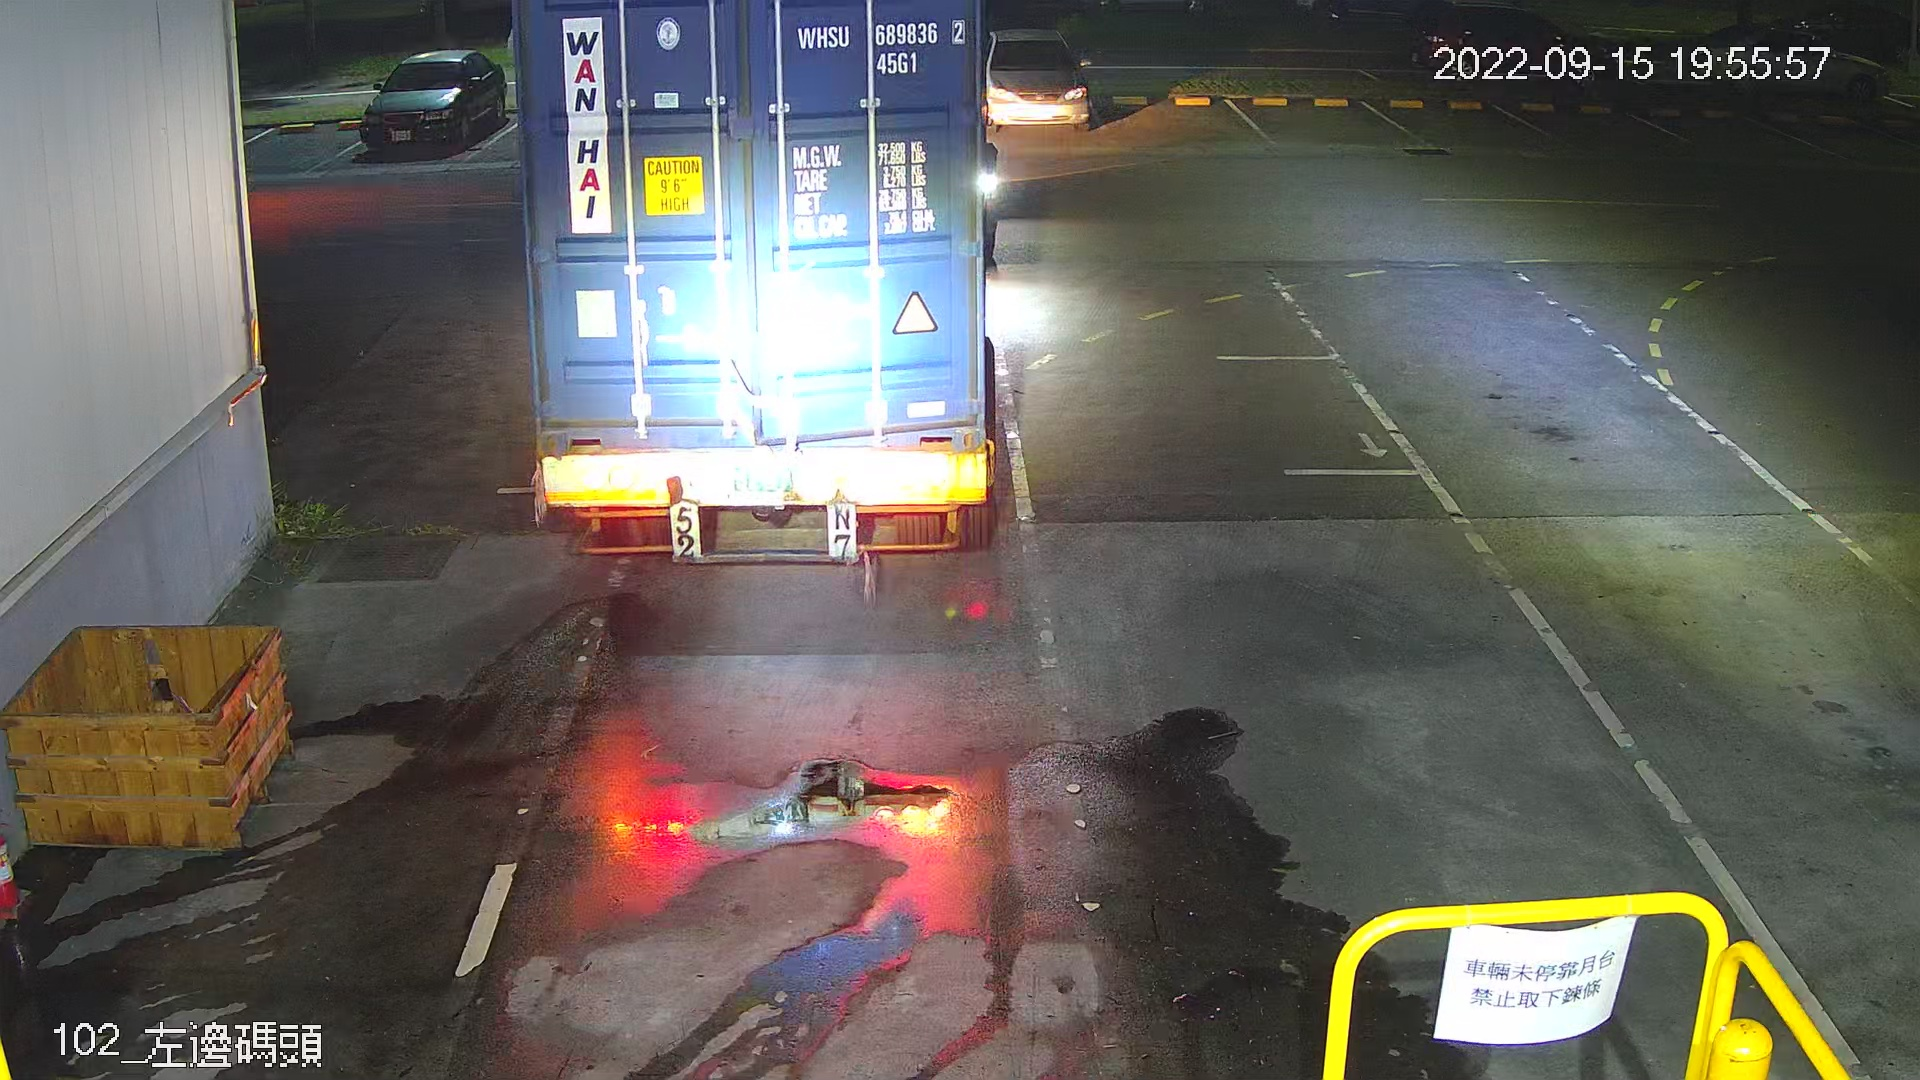container: (785, 15, 972, 84)
